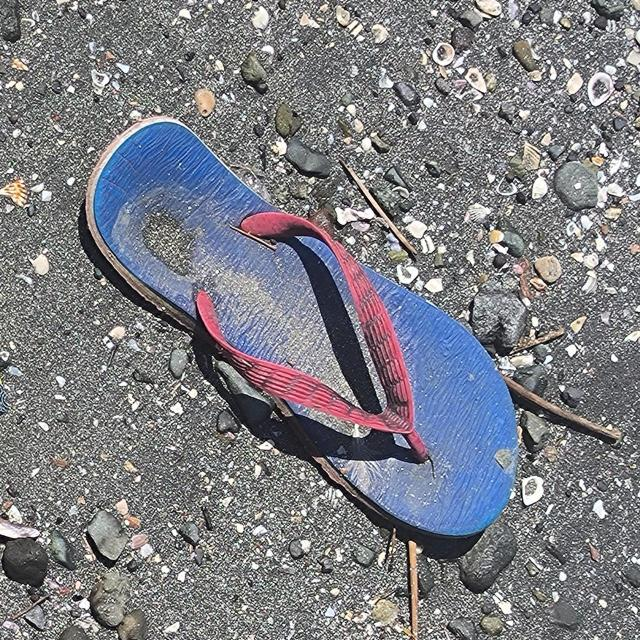rubber_waste: (86, 117, 520, 538)
